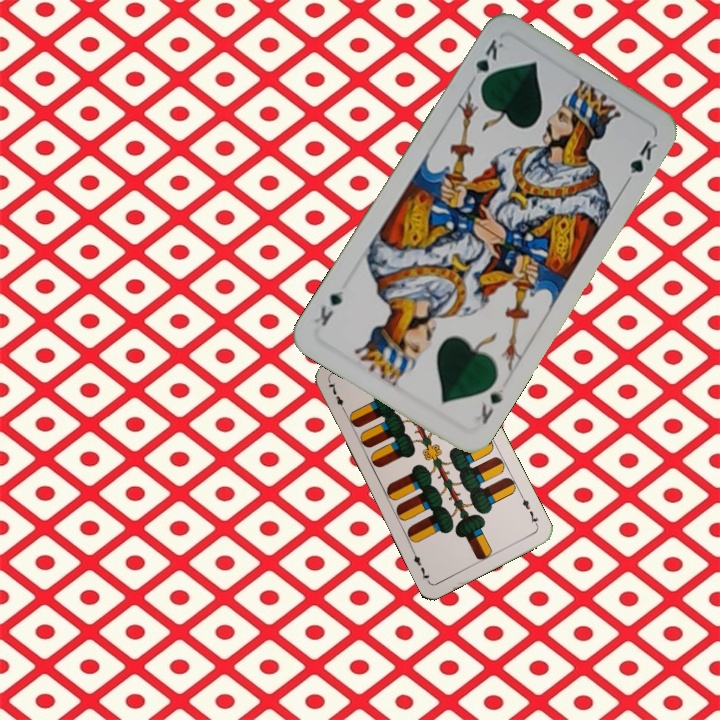E7: (324, 378, 349, 416), (517, 491, 541, 529)
GK: (471, 34, 506, 91), (476, 384, 507, 427)
